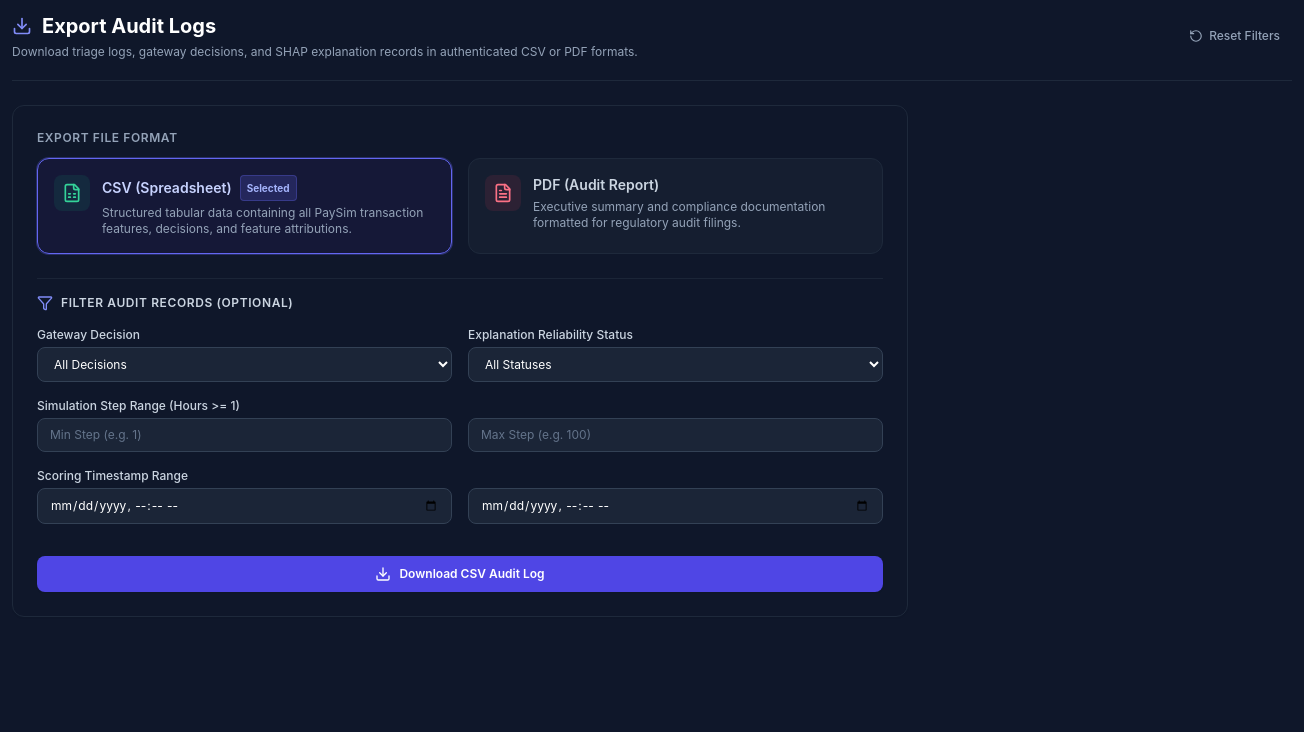
Test: ExportView Page › validates step boundary rules and invalid ranges
The width and height of the screenshot is (1304, 732).
Type "0" into the number field named "minimum step filter". click: coordinates (244, 435)
box: [37,418,452,452]
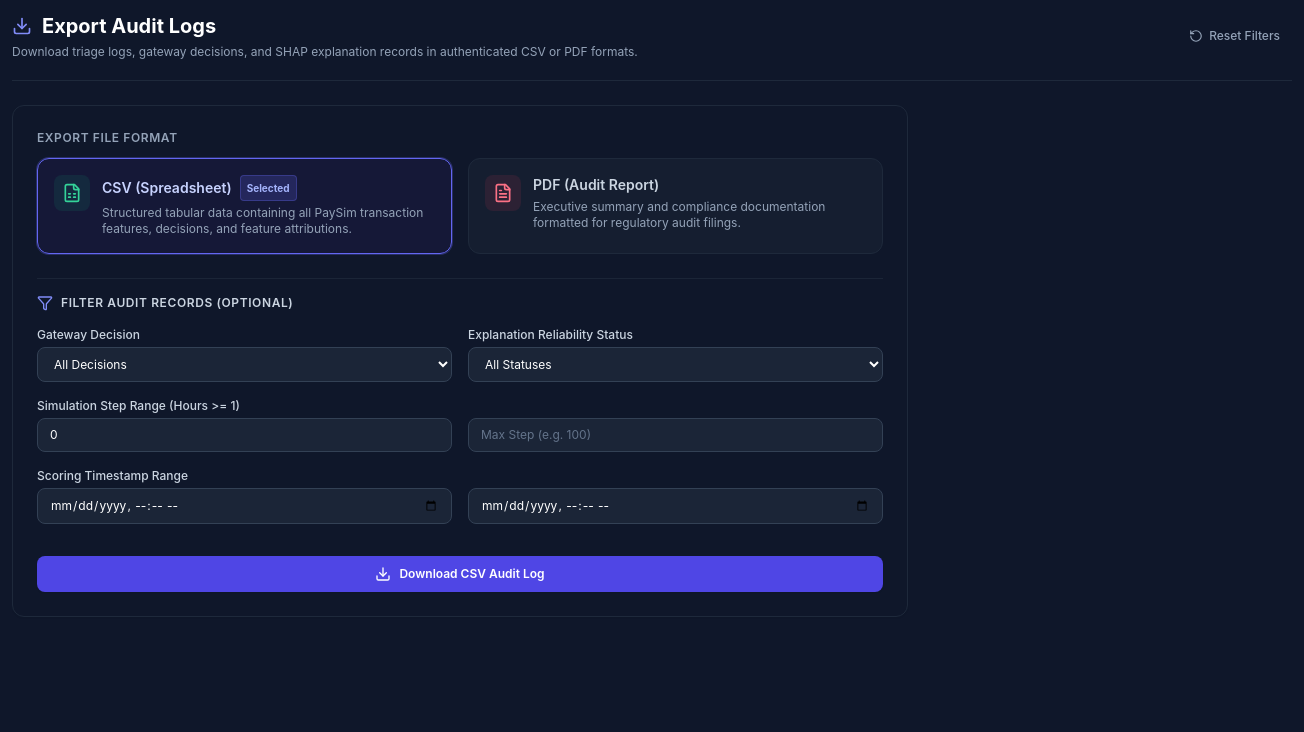
Click the button with test id "download-export-button". click: coordinates (460, 574)
box: [37,556,883,592]
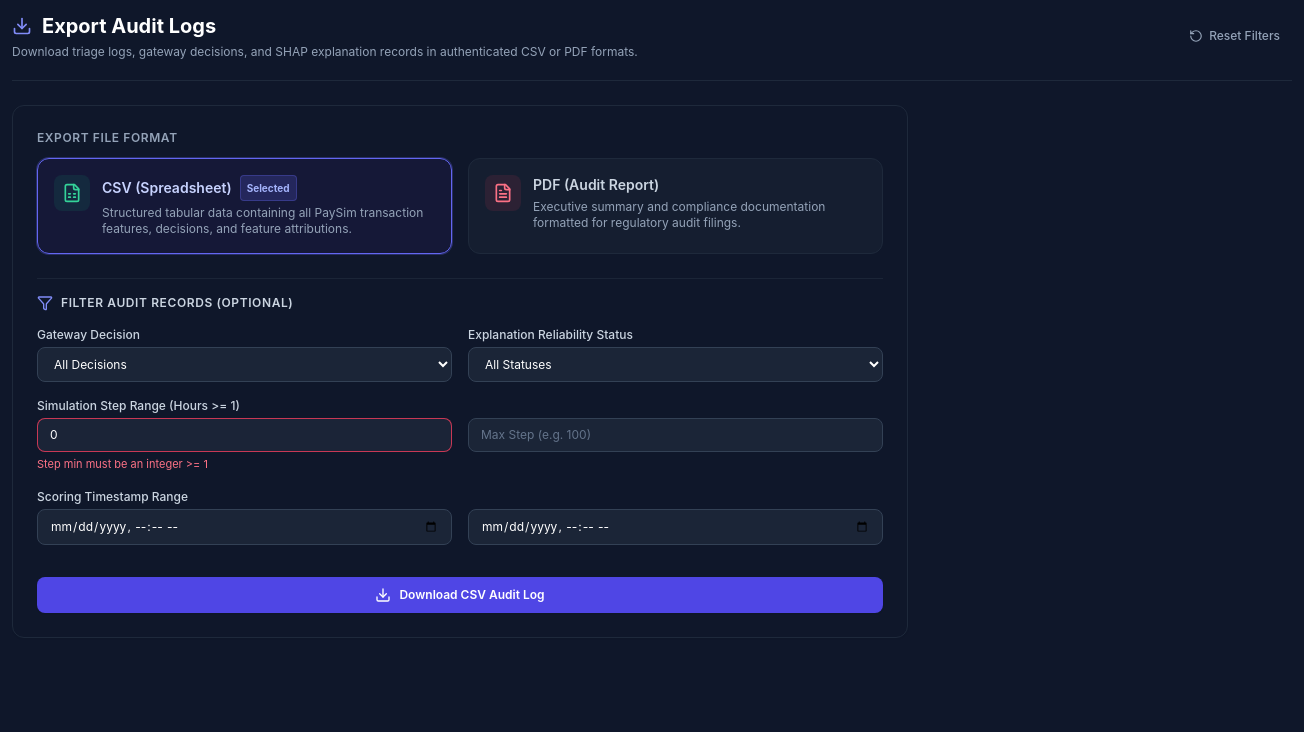
Now the text "Step min must be an integer >= 1" is shown, box [37,457,208,471]
Replace the text in the number field named "minimum step filter" with "20". click: coordinates (244, 435)
box: [37,418,452,452]
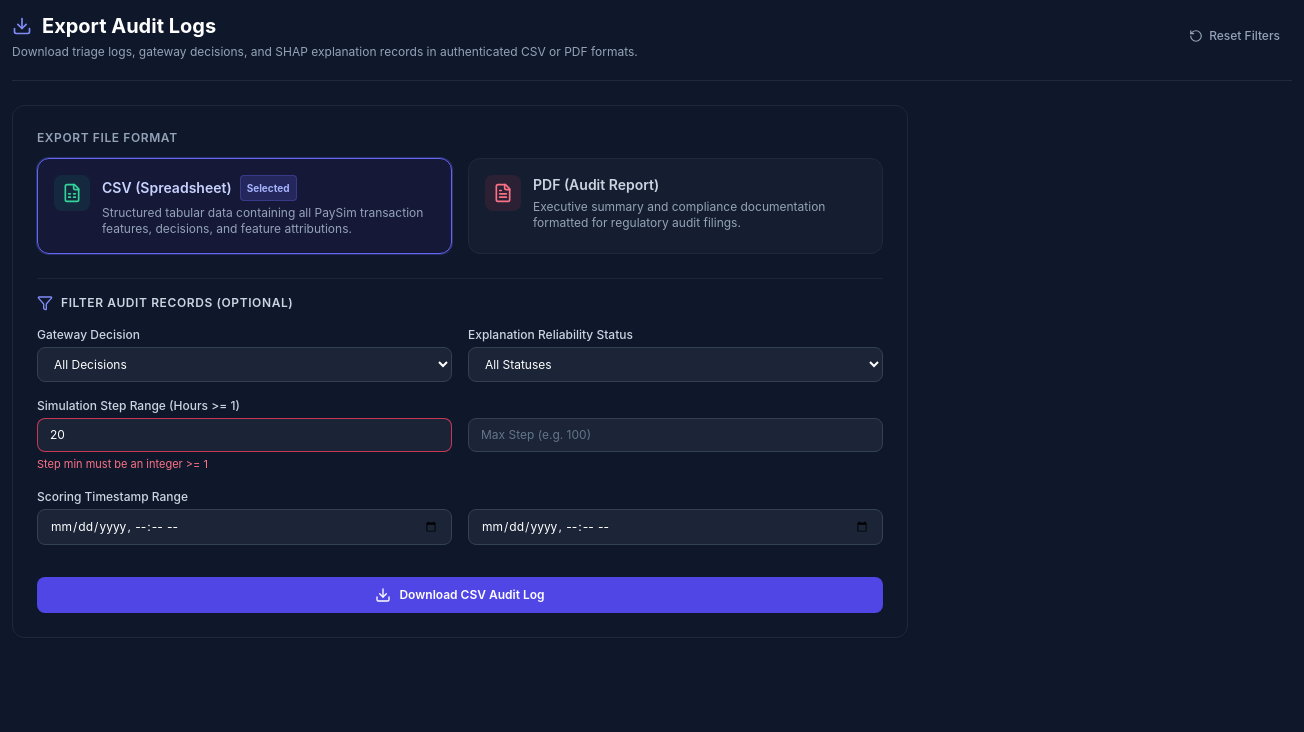
Type "10" into the number field named "maximum step filter". click: coordinates (676, 435)
box: [468,418,883,452]
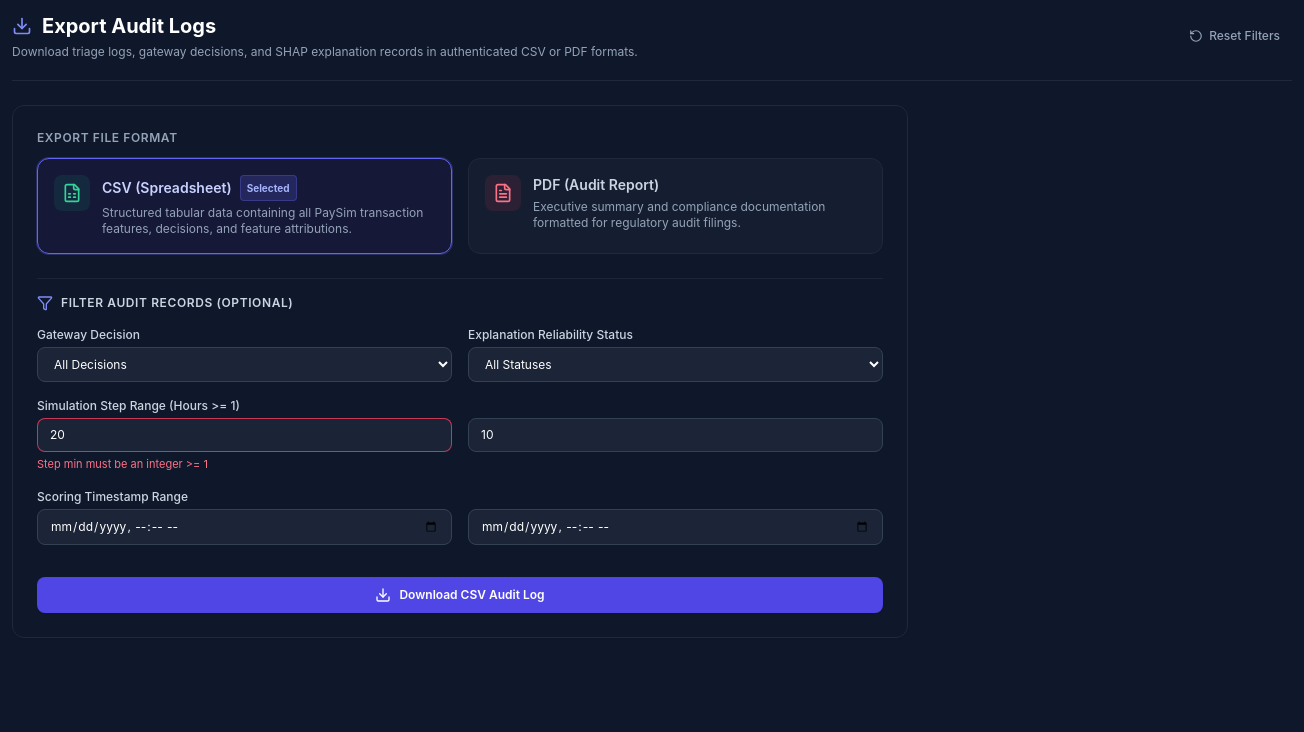
Click the button with test id "download-export-button". click: coordinates (460, 594)
box: [37,576,883,612]
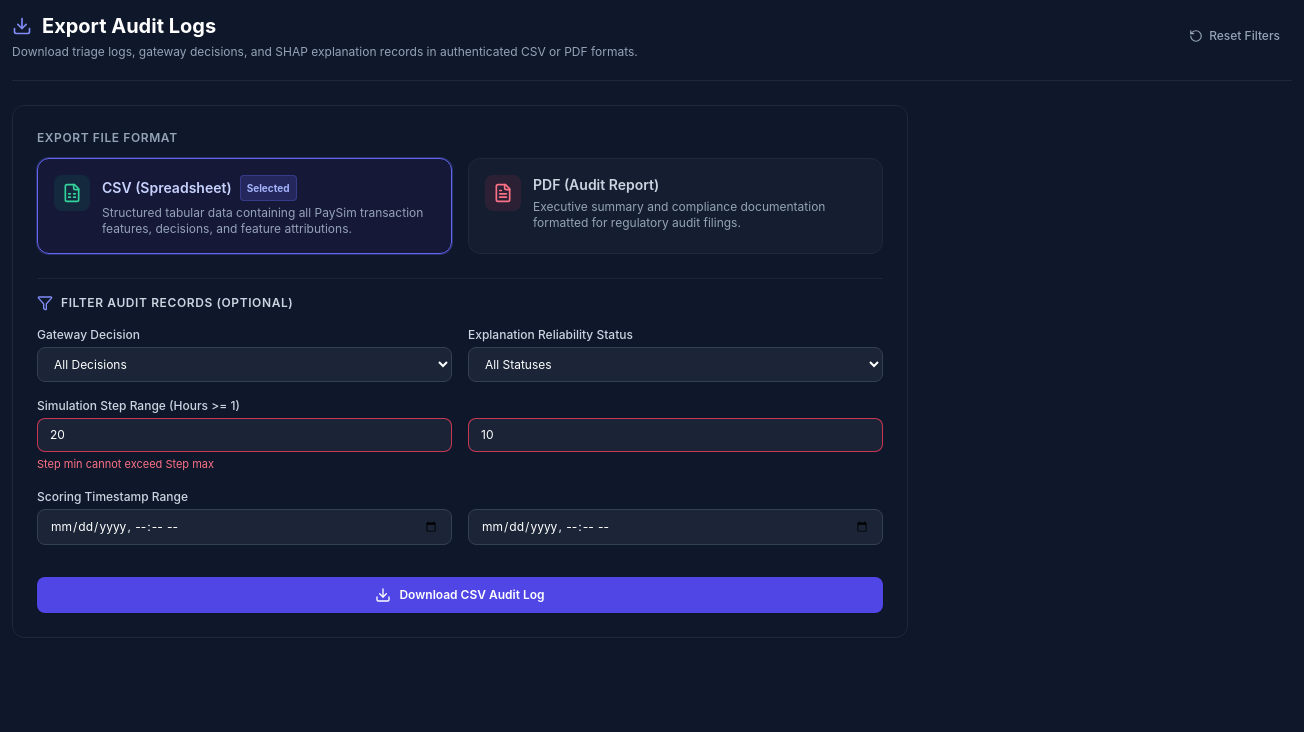
Now the text "Step min cannot exceed Step max" is shown, box [37,457,214,471]
